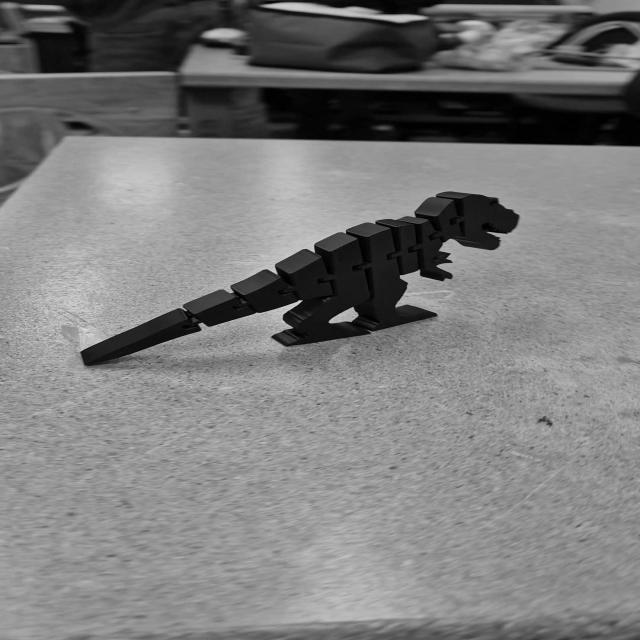dino: (79, 190, 521, 367)
